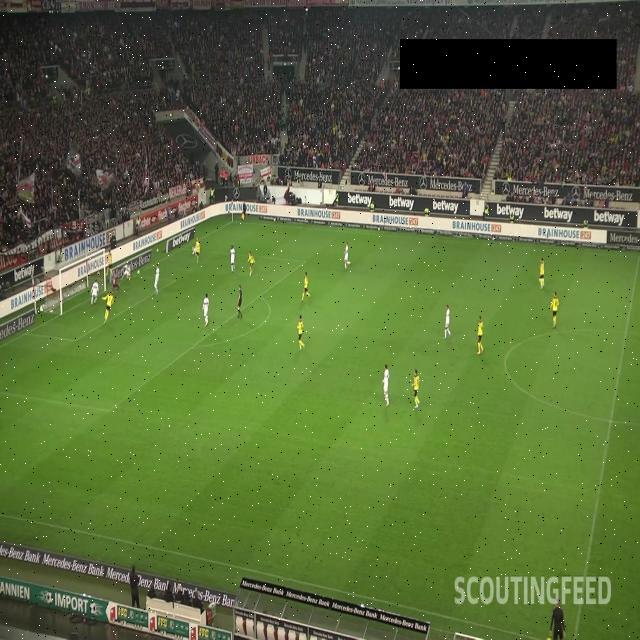Ball: (136, 269, 140, 275)
Corner: (230, 198, 234, 223)
GoalKeeper: (112, 270, 120, 294)
Referee: (237, 284, 243, 320), (242, 202, 246, 222)
TEAM 1: (102, 288, 114, 324), (550, 291, 560, 329), (412, 368, 421, 409), (300, 272, 312, 302), (296, 314, 305, 351), (538, 256, 546, 290), (478, 315, 484, 355), (247, 251, 256, 277), (193, 236, 200, 264)
TEAM 2: (382, 364, 390, 406), (443, 303, 452, 339), (202, 293, 210, 327), (120, 262, 132, 284), (90, 279, 100, 305), (154, 263, 160, 296), (230, 244, 236, 274), (343, 242, 349, 270)
